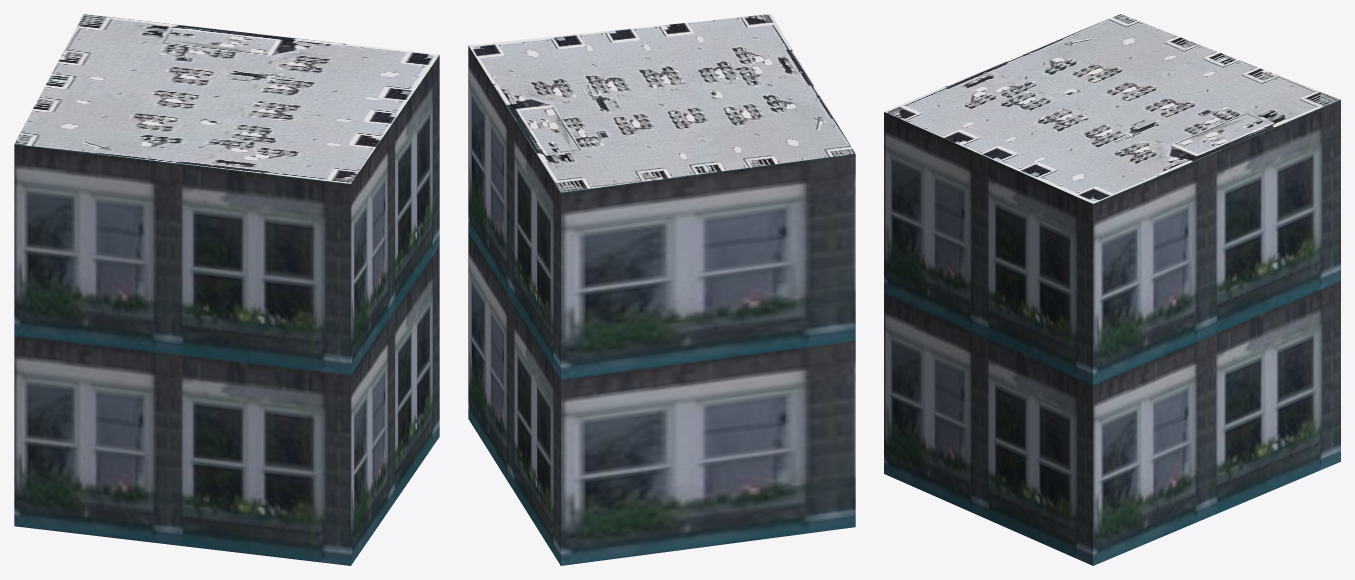
Rendered from ResTex__2354.fbx.
3 views of the same model, side by side, from view 1: azimuth 30°, elevation 25°; view 2: azimuth 150°, elevation 25°; view 3: azimuth 270°, elevation 25° (orthographic). The views are drawn at different scales.
Visible parts, largest first — view 1: CityEngineMaterial_11_m, CityEngineMaterial_m; view 2: CityEngineMaterial_11_m, CityEngineMaterial_m; view 3: CityEngineMaterial_11_m, CityEngineMaterial_m.
Boxes of the visible parts, x1,y1,x2,y2 form: CityEngineMaterial_11_m: (14,55,439,565); CityEngineMaterial_m: (14,14,439,183); CityEngineMaterial_11_m: (468,46,855,565); CityEngineMaterial_m: (468,14,855,192); CityEngineMaterial_11_m: (884,100,1340,565); CityEngineMaterial_m: (884,14,1340,203).
Bounding box in the file's own units: 6.75 × 6 × 6.86.
Materials: 2 (2 with a texture image).
